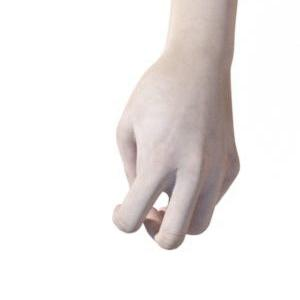rock: (113, 33, 239, 249)
